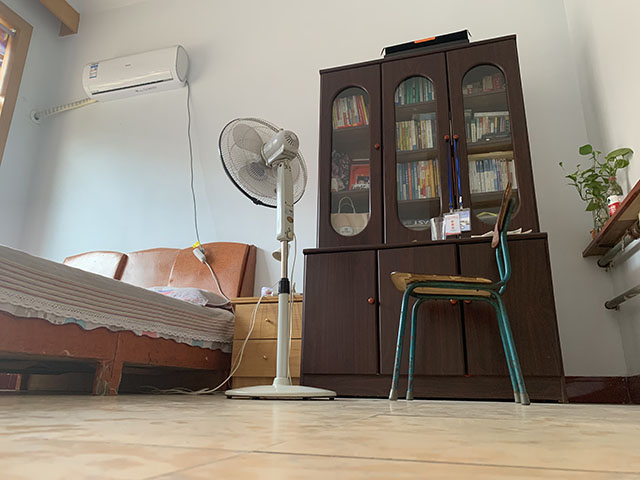bed: (1, 240, 258, 398)
cabinet: (302, 229, 569, 404), (227, 294, 304, 395)
stool: (387, 179, 532, 407)
wire: (135, 234, 300, 399)
